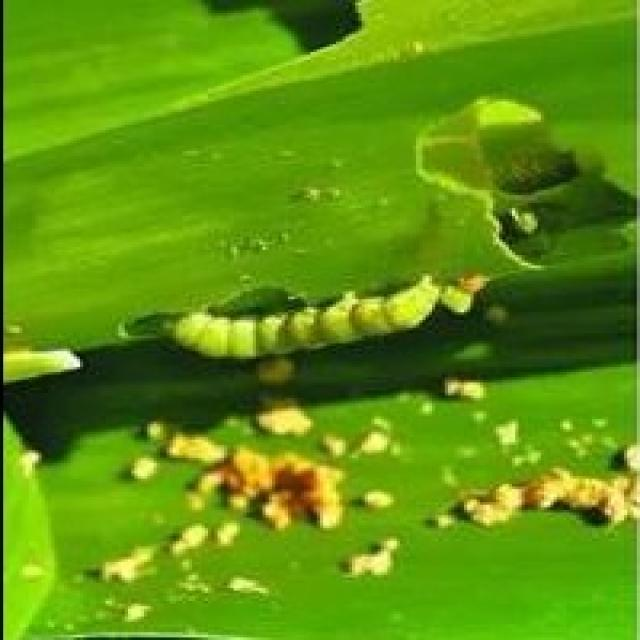army worm: (148, 272, 462, 376)
